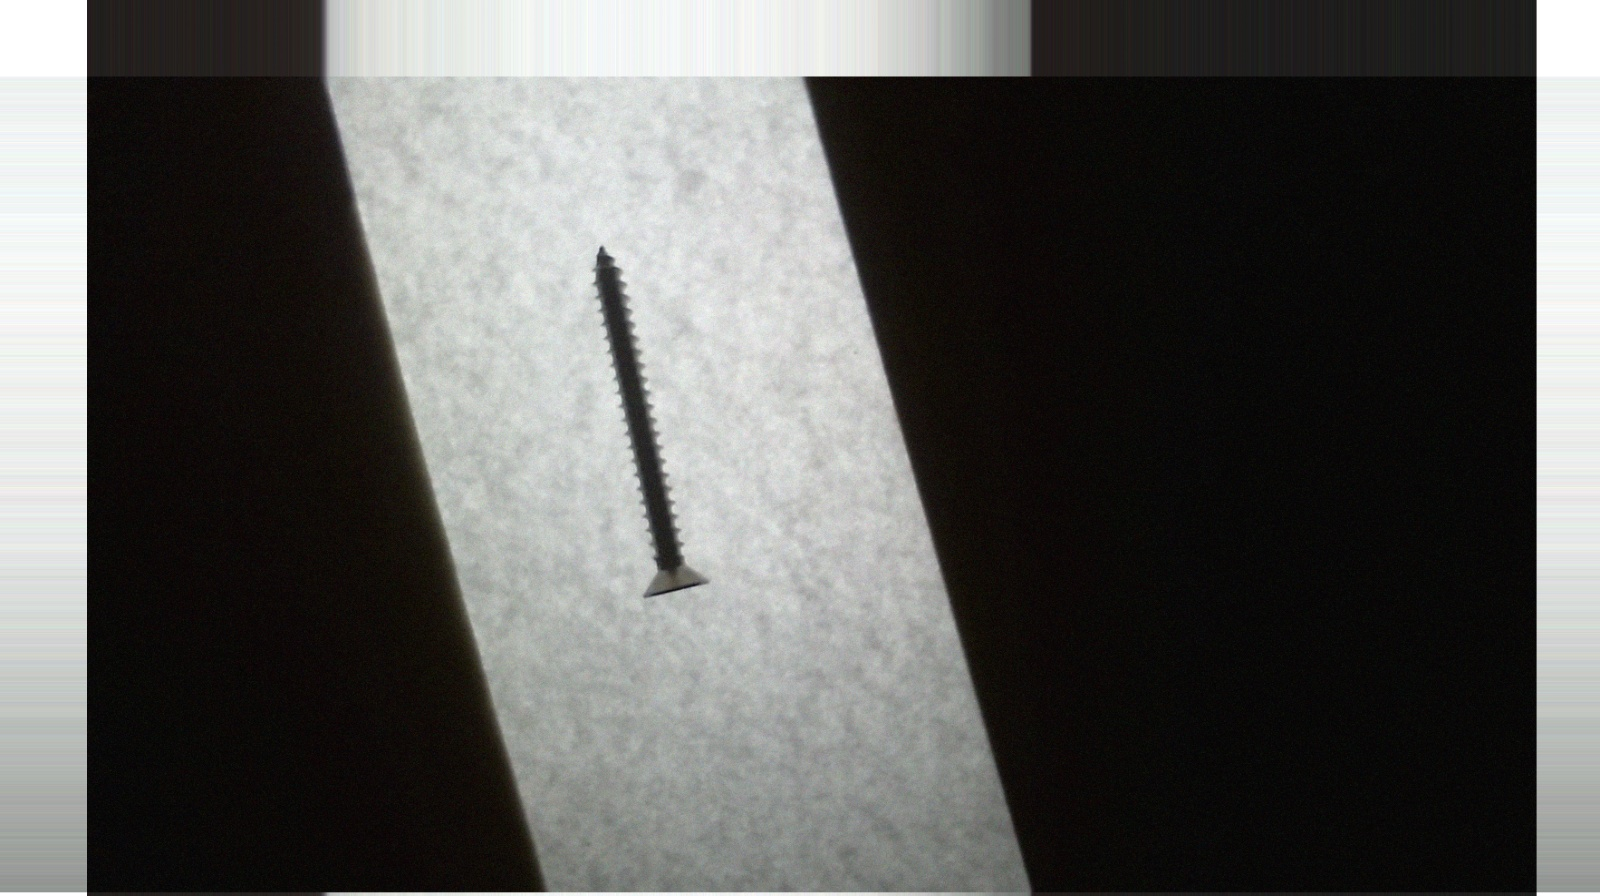S002: (573, 243, 723, 596)
